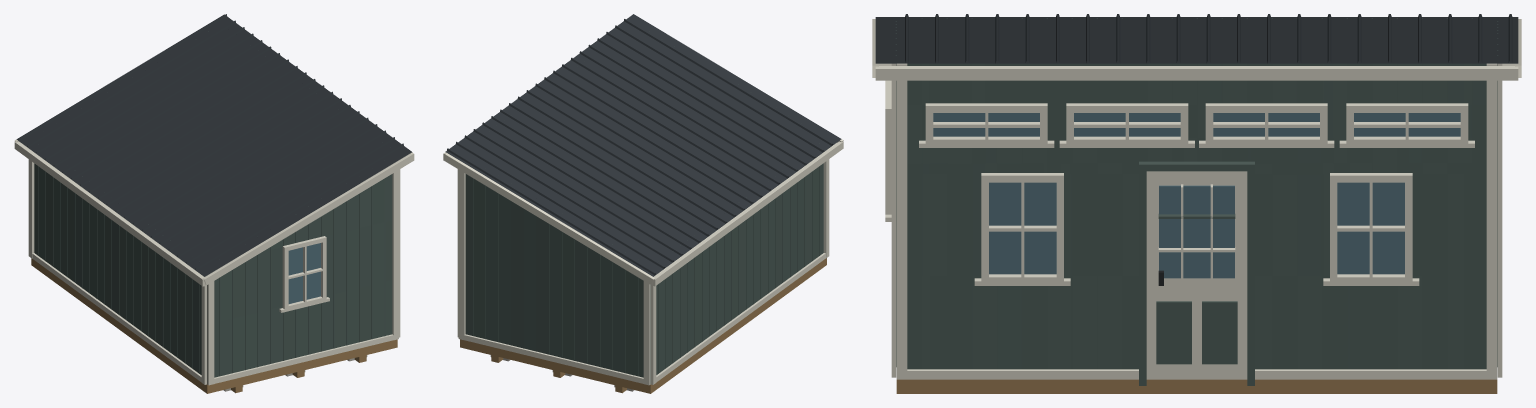
Rendered from 07-studio.glb.
3 renders of one model, left to right at view 1: azimuth 30°, elevation 25°; view 2: azimuth 150°, elevation 25°; view 3: azimuth 270°, elevation 25°, orthographic. The views are drawn at different scales.
Parts seen in each view (by area): view 1: Main roof, front wall, left wall, Floor platform and skids, front wall window; view 2: Main roof, rear wall, left wall, Floor platform and skids; view 3: right wall, Main roof, right wall entry, right wall transom, right wall window, Floor platform and skids, front wall, rear wall, front wall window.
Boxes of the visible parts, x1,y1,x2,y2 form: Main roof: (14, 14, 414, 286); front wall: (207, 170, 398, 385); left wall: (28, 149, 207, 384); Floor platform and skids: (31, 258, 397, 393); front wall window: (279, 236, 329, 312); Main roof: (443, 14, 843, 286); rear wall: (458, 170, 650, 385); left wall: (650, 143, 829, 384); Floor platform and skids: (460, 258, 826, 393); right wall: (896, 63, 1497, 379); Main roof: (872, 14, 1521, 80); right wall entry: (1139, 161, 1254, 385); right wall transom: (919, 103, 1474, 147); right wall window: (974, 173, 1419, 285); Floor platform and skids: (896, 379, 1497, 393); front wall: (891, 21, 896, 377); rear wall: (1497, 21, 1502, 377); front wall window: (885, 80, 891, 221).
Bounding box in the file's own units: 3.39 × 3.18 × 5.27.
